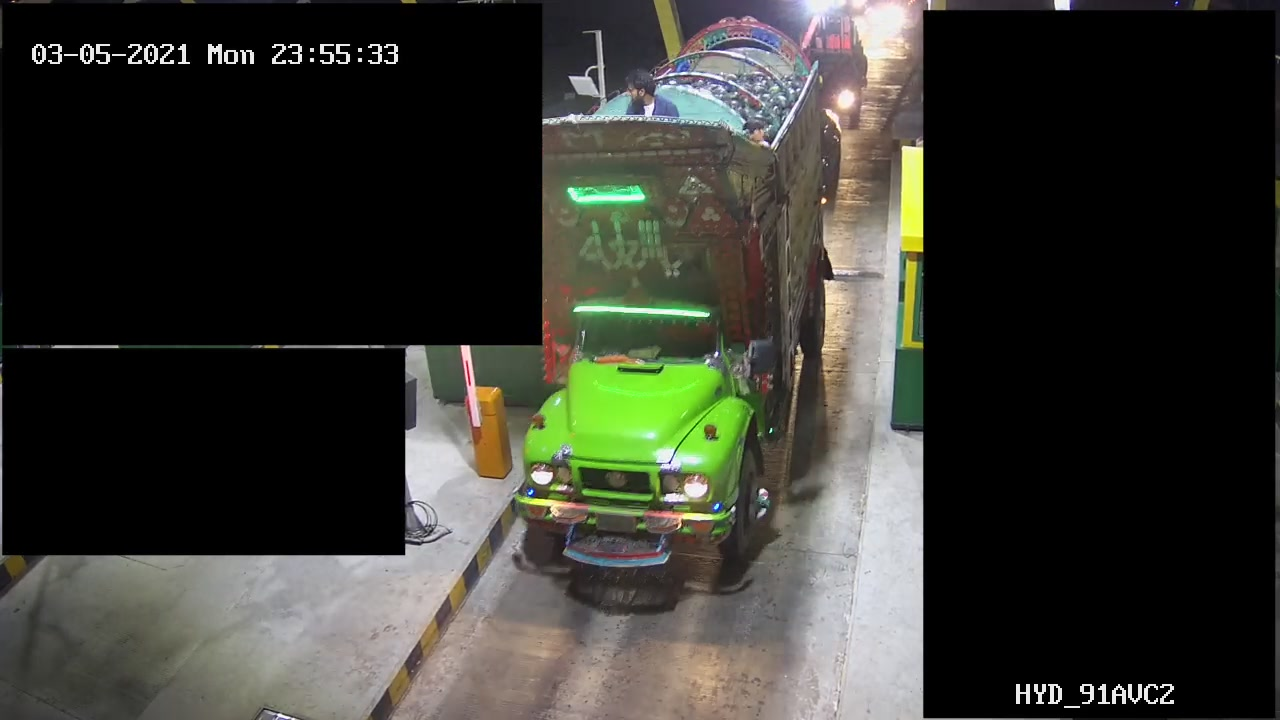F5: (502, 1, 825, 617)
